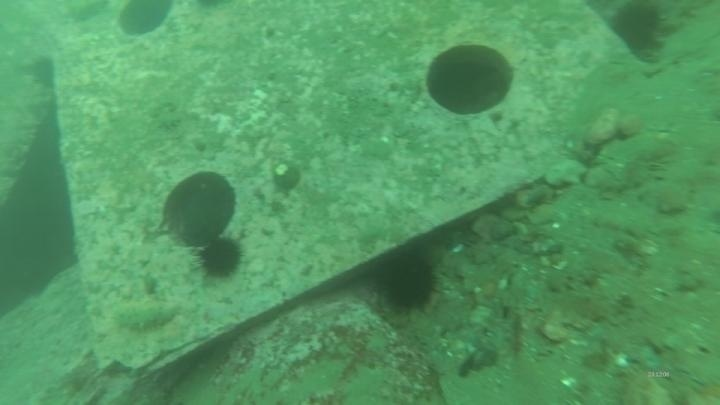echinus: (374, 248, 443, 316), (607, 2, 668, 57), (194, 233, 245, 281), (27, 54, 58, 90)
holothurian: (107, 297, 183, 335)
